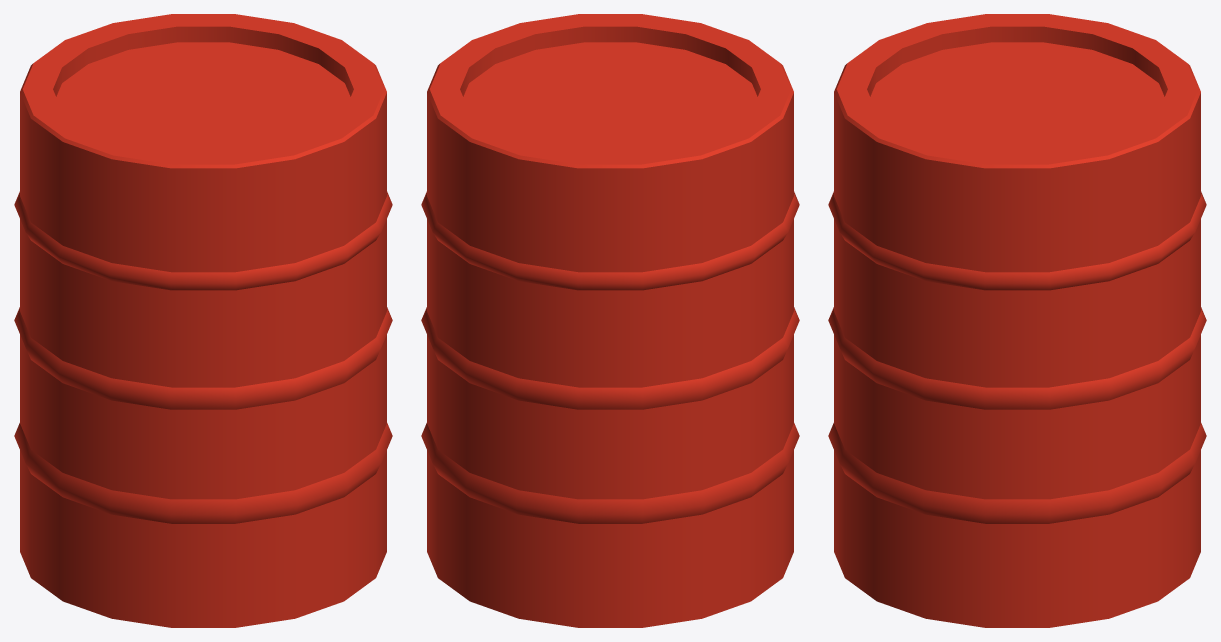
Rendered from Barrel.fbx.
The picture shows the model from 3 angles, left to right: view 1: azimuth 30°, elevation 25°; view 2: azimuth 150°, elevation 25°; view 3: azimuth 270°, elevation 25°; orthographic projection.
Parts seen in each view (by area): view 1: Barrel.001; view 2: Barrel.001; view 3: Barrel.001.
Boxes of the visible parts, <box> form: Barrel.001: <box>14,14,392,627</box>; Barrel.001: <box>421,14,799,627</box>; Barrel.001: <box>828,14,1206,627</box>.
Size of the model in its own units: 1.46 by 2 by 1.48.
